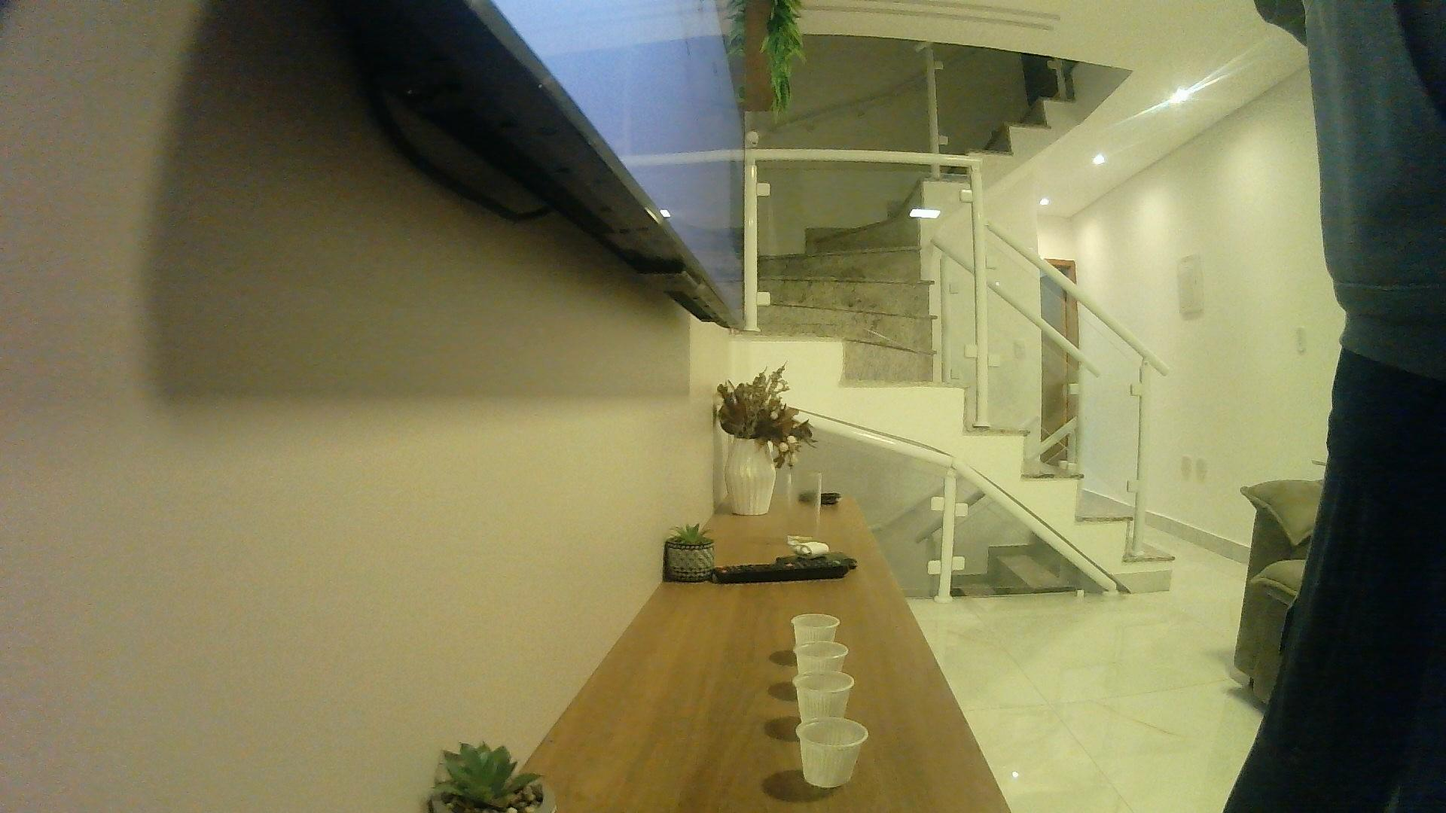planta: (794, 712, 871, 790), (794, 668, 859, 718), (786, 607, 845, 640), (792, 637, 851, 667)
